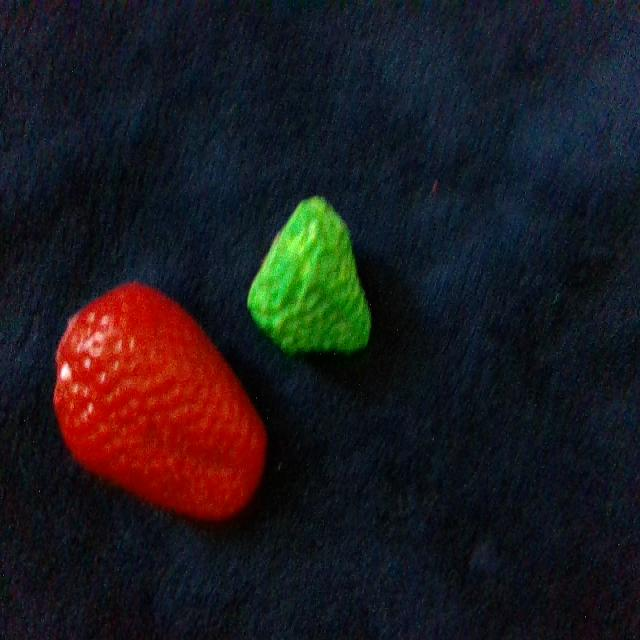grande_roja: (55, 284, 266, 519)
verde: (248, 197, 370, 352)
